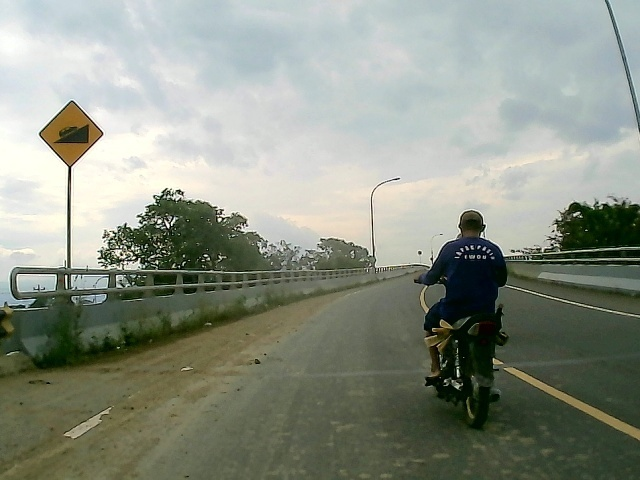Jalanan menanjak: (32, 99, 107, 172)
